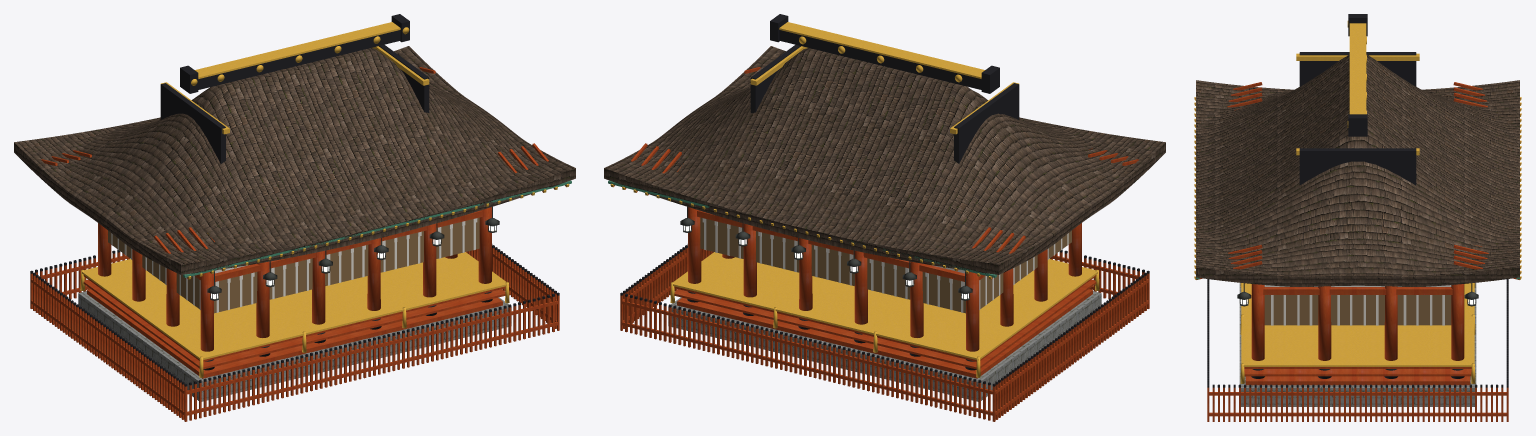
The model's file is gehaiden.glb.
3 views of the same model, side by side, from view 1: azimuth 30°, elevation 25°; view 2: azimuth 150°, elevation 25°; view 3: azimuth 270°, elevation 25° (orthographic). The views are drawn at different scales.
Parts seen in each view (by area): view 1: MAT_Hiwadabuki_Bark_Roof, MAT_Vermilion_ShuIro, MAT_Gold_Kanagu_Leaf, MAT_Black_Lacquer_Nemaki, MAT_Sudare_Bamboo_Blind, MAT_Granite_Stone_Moss, MAT_White_Shikku_Plaster, MAT_Copper_Patina_Green, MAT_Dark_Bronze_Kitsune; view 2: MAT_Hiwadabuki_Bark_Roof, MAT_Vermilion_ShuIro, MAT_Gold_Kanagu_Leaf, MAT_Black_Lacquer_Nemaki, MAT_Sudare_Bamboo_Blind, MAT_Granite_Stone_Moss, MAT_White_Shikku_Plaster, MAT_Dark_Bronze_Kitsune, MAT_Copper_Patina_Green; view 3: MAT_Hiwadabuki_Bark_Roof, MAT_Vermilion_ShuIro, MAT_Gold_Kanagu_Leaf, MAT_Black_Lacquer_Nemaki, MAT_Sudare_Bamboo_Blind, MAT_Granite_Stone_Moss, MAT_White_Shikku_Plaster, MAT_Dark_Bronze_Kitsune.
Boxes of the visible parts, x1,y1,x2,y2 form: MAT_Hiwadabuki_Bark_Roof: (14, 46, 575, 274); MAT_Vermilion_ShuIro: (30, 67, 566, 421); MAT_Gold_Kanagu_Leaf: (80, 22, 569, 377); MAT_Black_Lacquer_Nemaki: (30, 14, 559, 386); MAT_Sudare_Bamboo_Blind: (108, 217, 479, 313); MAT_Granite_Stone_Moss: (78, 291, 511, 401); MAT_White_Shikku_Plaster: (111, 218, 477, 312); MAT_Copper_Patina_Green: (183, 180, 571, 277); MAT_Dark_Bronze_Kitsune: (207, 206, 499, 300); MAT_Hiwadabuki_Bark_Roof: (604, 46, 1165, 274); MAT_Vermilion_ShuIro: (613, 67, 1149, 421); MAT_Gold_Kanagu_Leaf: (610, 22, 1099, 377); MAT_Black_Lacquer_Nemaki: (620, 14, 1149, 386); MAT_Sudare_Bamboo_Blind: (700, 217, 1071, 313); MAT_Granite_Stone_Moss: (668, 291, 1101, 401); MAT_White_Shikku_Plaster: (702, 218, 1068, 312); MAT_Dark_Bronze_Kitsune: (680, 206, 972, 300); MAT_Copper_Patina_Green: (608, 180, 996, 277); MAT_Hiwadabuki_Bark_Roof: (1196, 54, 1519, 286); MAT_Vermilion_ShuIro: (1195, 82, 1520, 421); MAT_Gold_Kanagu_Leaf: (1194, 21, 1521, 383); MAT_Black_Lacquer_Nemaki: (1207, 14, 1508, 387); MAT_Sudare_Bamboo_Blind: (1264, 295, 1451, 325); MAT_Granite_Stone_Moss: (1239, 283, 1476, 406); MAT_White_Shikku_Plaster: (1264, 285, 1451, 325); MAT_Dark_Bronze_Kitsune: (1237, 283, 1478, 306).
Bounding box in the file's own units: 14.2 × 9.46 × 10.5.
10 materials, 4 textured.
